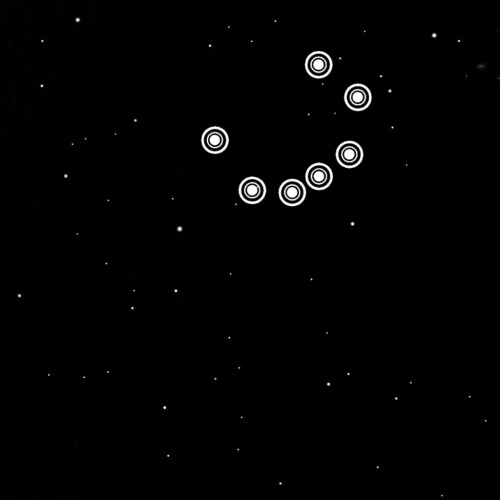corona_borealis: (198, 46, 376, 210)
